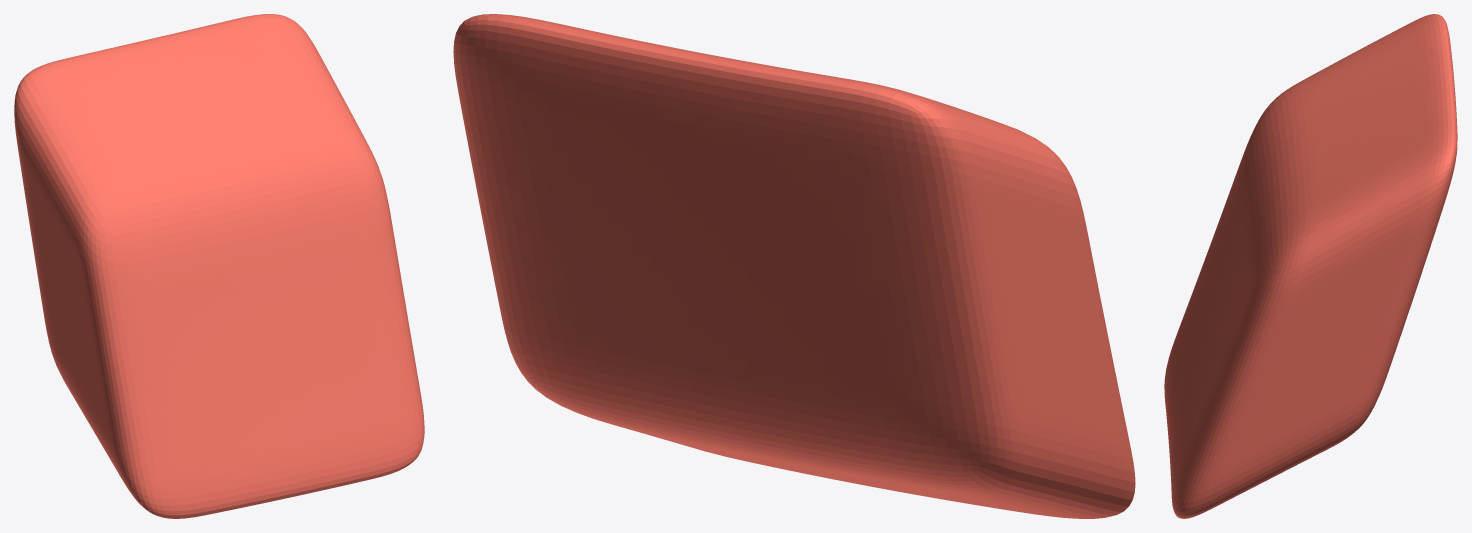
The picture shows the model from 3 angles, left to right: view 1: azimuth 30°, elevation 25°; view 2: azimuth 150°, elevation 25°; view 3: azimuth 270°, elevation 25°; orthographic projection. The views are drawn at different scales.
Parts seen in each view (by area): view 1: waves_1.062; view 2: waves_1.062; view 3: waves_1.062.
Boxes of the visible parts, bbox=[...] form: waves_1.062: bbox=[14, 14, 424, 518]; waves_1.062: bbox=[453, 14, 1135, 518]; waves_1.062: bbox=[1164, 14, 1457, 518].
Bounding box in the file's own units: 30.12 × 34.32 × 23.87.
